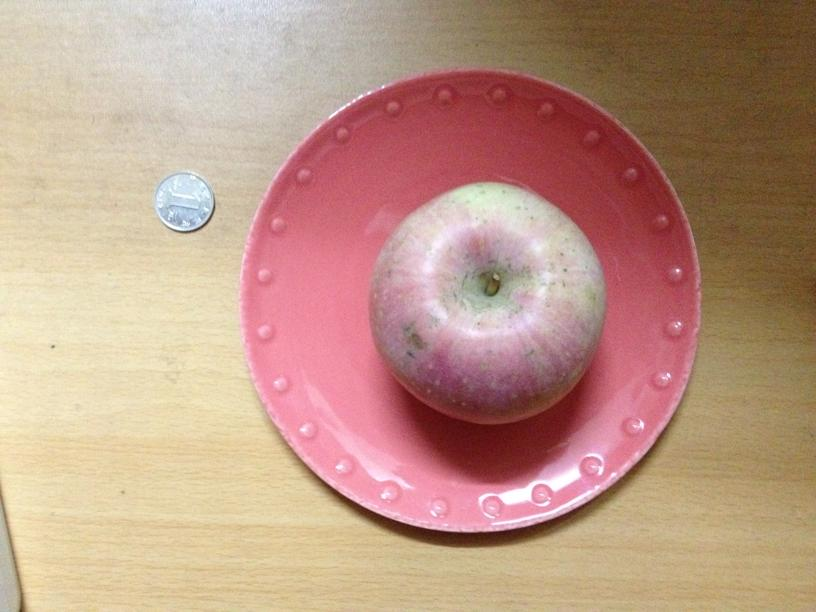apple: (369, 176, 606, 426)
coin: (150, 171, 214, 231)
